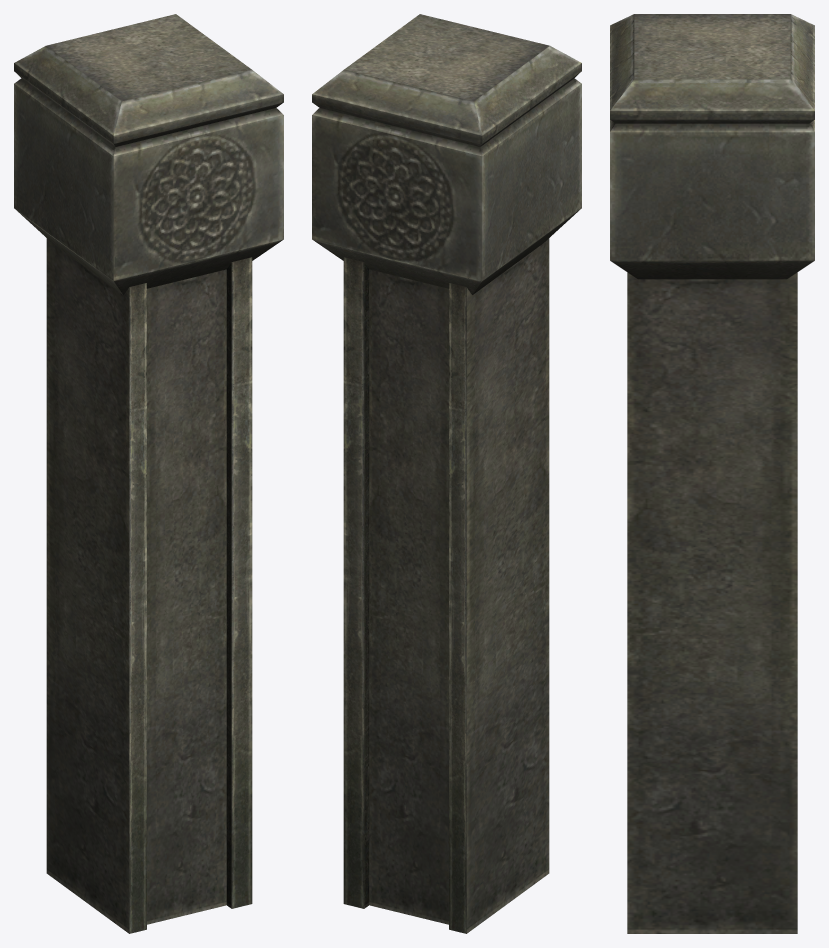
File: dawnmist_wallpillar.fbx
The picture shows the model from 3 angles, left to right: view 1: azimuth 30°, elevation 25°; view 2: azimuth 150°, elevation 25°; view 3: azimuth 270°, elevation 25°; orthographic projection. The views are drawn at different scales.
Parts seen in each view (by area): view 1: DawnMist_wall; view 2: DawnMist_wall; view 3: DawnMist_wall.
Boxes of the visible parts, x1,y1,x2,y2 form: DawnMist_wall: [14, 14, 283, 933]; DawnMist_wall: [312, 14, 581, 933]; DawnMist_wall: [610, 14, 814, 933].
Bounding box in the file's own units: 2.05 × 9.55 × 2.07.
